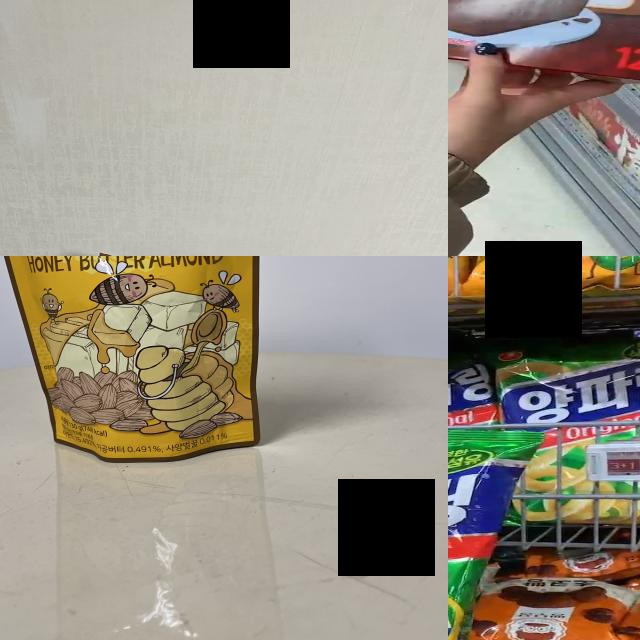honeyAmond: (14, 256, 255, 452)
ohYes: (448, 0, 640, 68)
onionRing: (502, 350, 640, 530), (448, 357, 506, 428)
